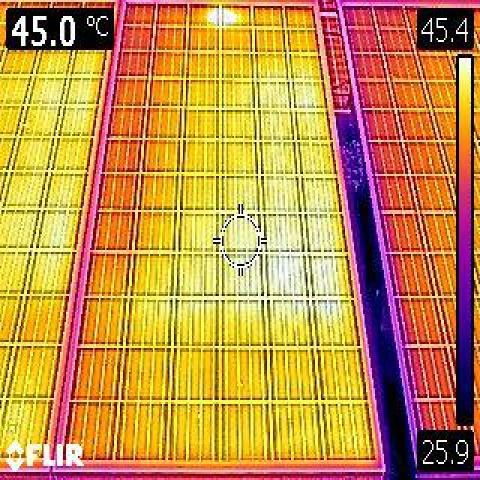fault: (266, 245, 344, 320), (206, 3, 237, 28)
